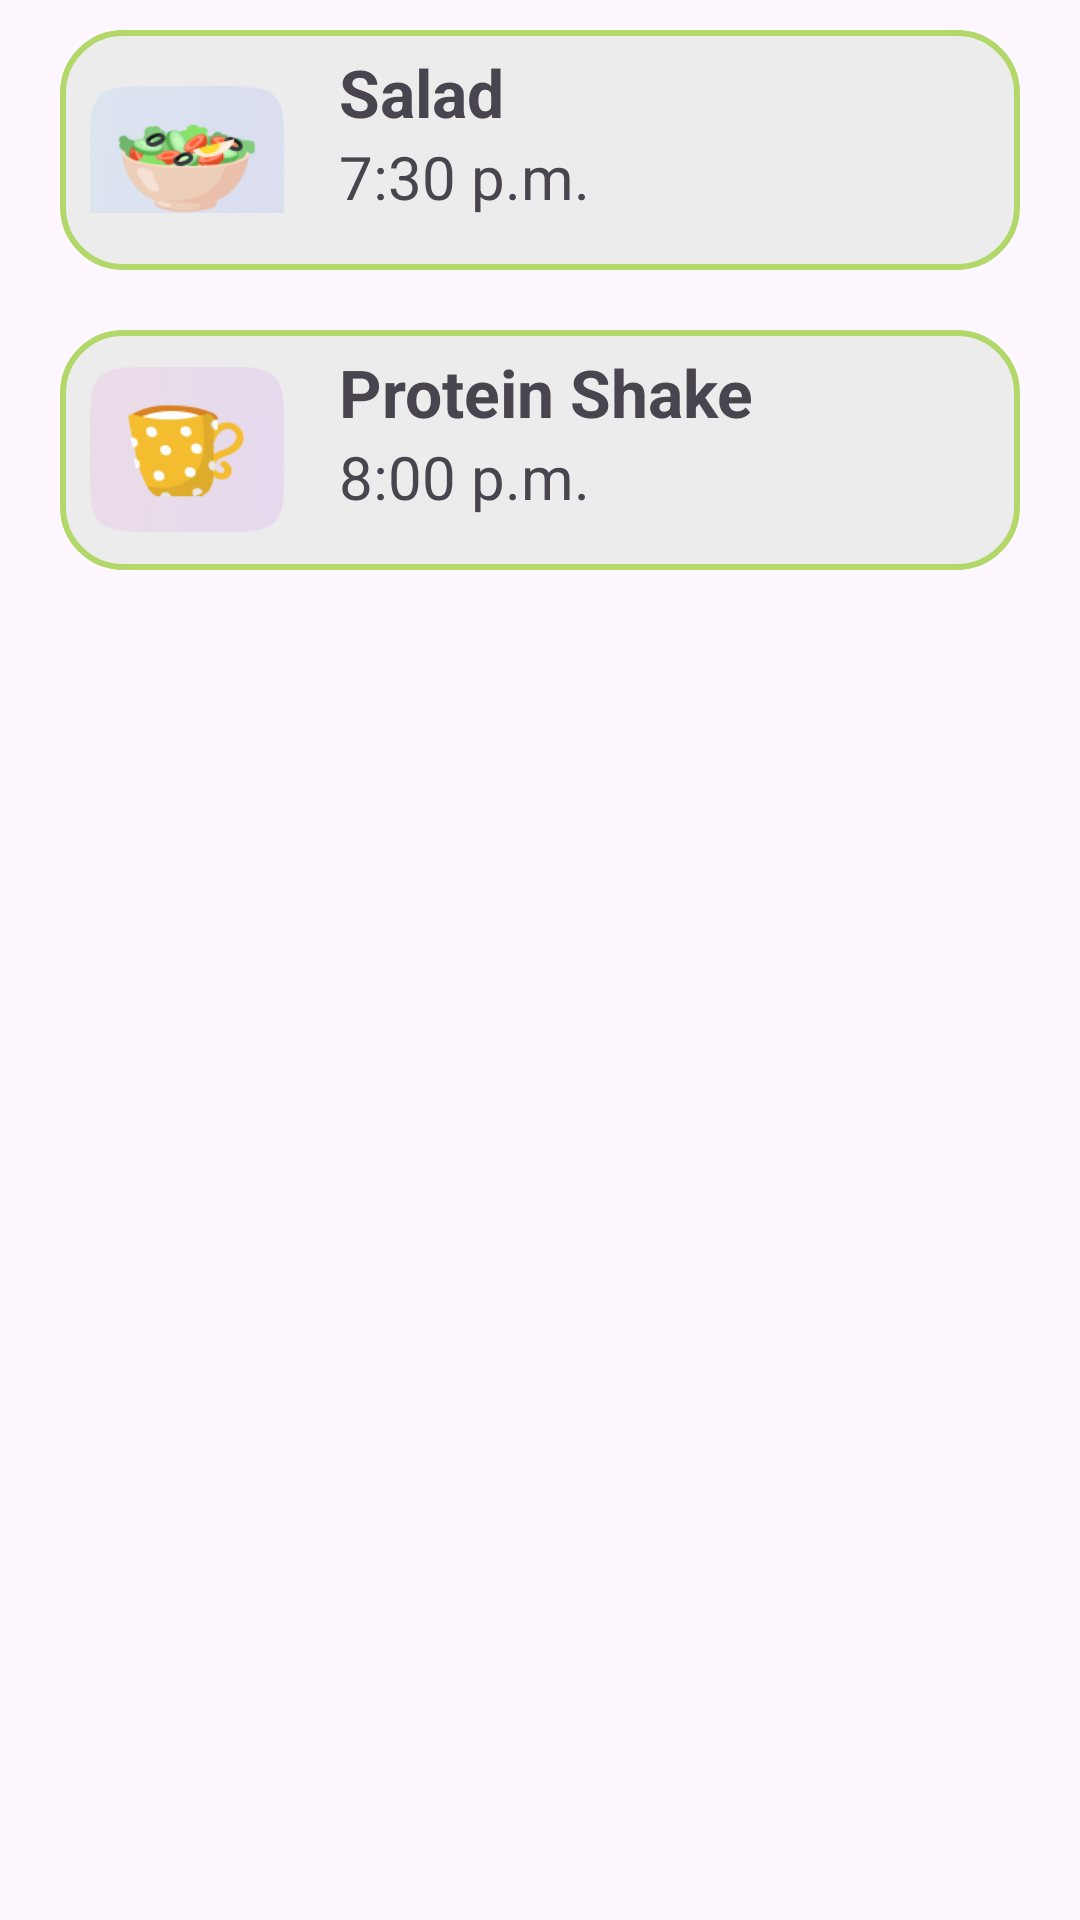

Icons on this 1080 x 1920 Android screen, each with the point to tap as (x,y):
milk: (186,450)
